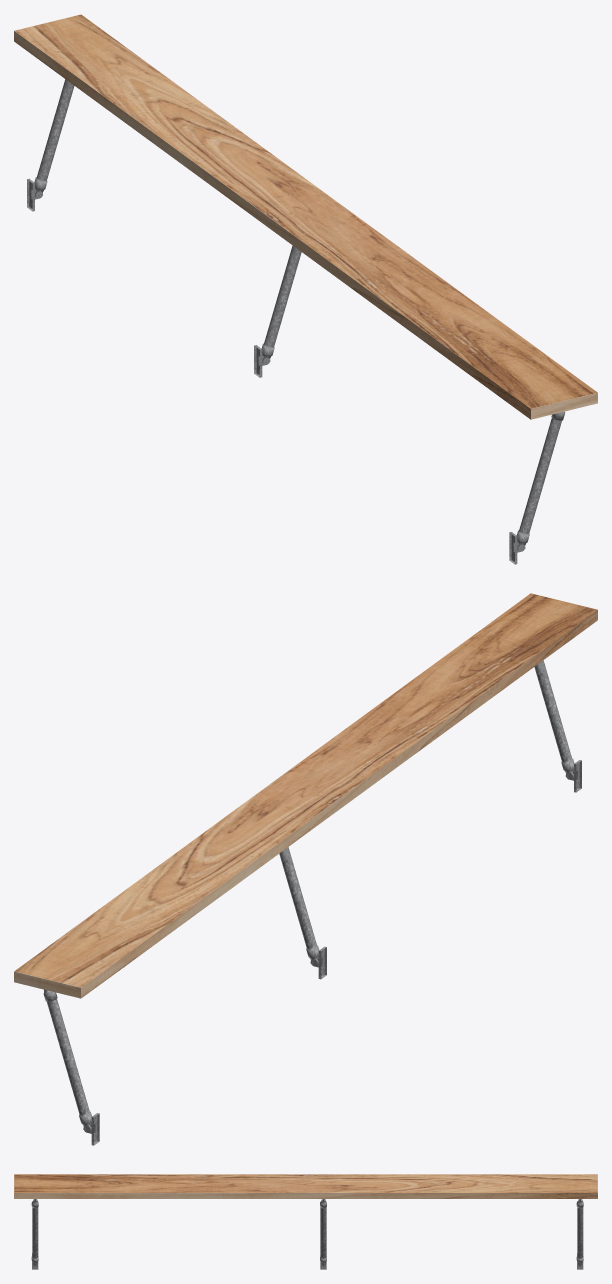
File: counter.glb
The picture shows the model from 3 angles, top to bottom: view 1: azimuth 30°, elevation 25°; view 2: azimuth 150°, elevation 25°; view 3: azimuth 270°, elevation 25°; orthographic projection. The views are drawn at different scales.
Visible parts, largest first — view 1: QBlock_4, Cylinder.007_10, Cylinder.001_2, Cylinder.004_9; view 2: QBlock_4, Cylinder.001_2, Cylinder.004_9, Cylinder.007_10; view 3: QBlock_4, Cylinder.004_9, Cylinder.001_2, Cylinder.007_10.
Boxes of the visible parts, left/top/right/bottom form: QBlock_4: left=14, top=14, right=597, bottom=419; Cylinder.007_10: left=519, top=418, right=561, bottom=534; Cylinder.001_2: left=36, top=79, right=74, bottom=181; Cylinder.004_9: left=264, top=245, right=301, bottom=347; QBlock_4: left=14, top=593, right=597, bottom=998; Cylinder.001_2: left=47, top=999, right=89, bottom=1115; Cylinder.004_9: left=279, top=847, right=316, bottom=949; Cylinder.007_10: left=534, top=660, right=572, bottom=762; QBlock_4: left=14, top=1174, right=597, bottom=1198; Cylinder.004_9: left=320, top=1207, right=326, bottom=1258; Cylinder.001_2: left=577, top=1207, right=583, bottom=1258; Cylinder.007_10: left=32, top=1207, right=38, bottom=1258.
Size of the model in its own units: 0.3 by 0.714 by 4.
Materials: 4 (4 with a texture image).
